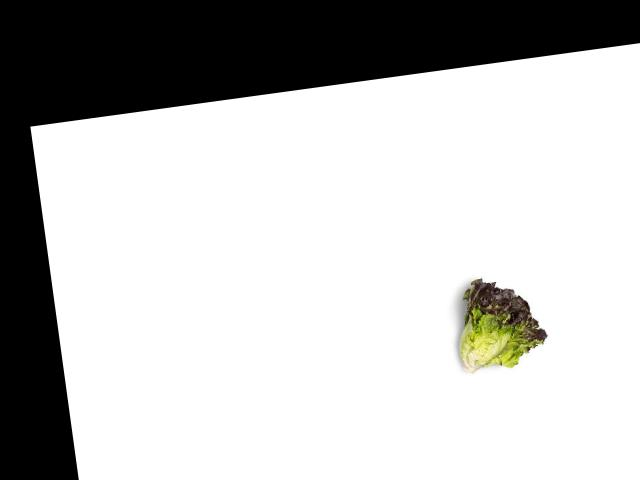lettuce: (449, 265, 549, 377)
